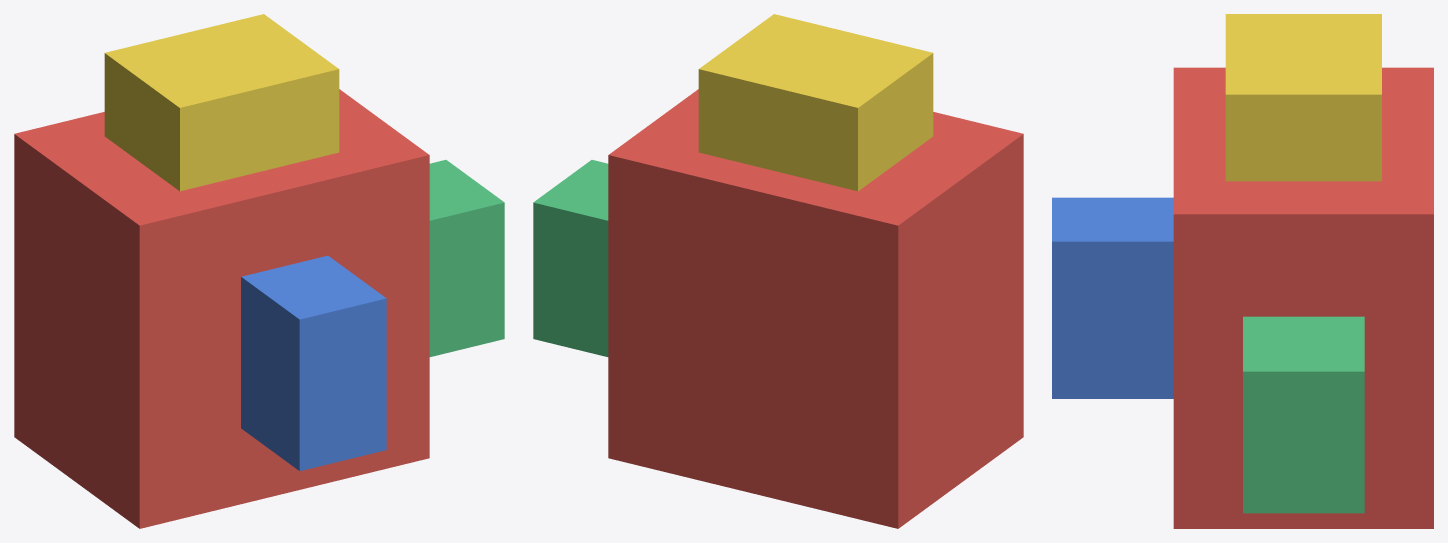
The model's file is probe_no_uv.glb.
3 views of the same model, side by side, from view 1: azimuth 30°, elevation 25°; view 2: azimuth 150°, elevation 25°; view 3: azimuth 270°, elevation 25° (orthographic). The views are drawn at different scales.
Visible parts, largest first — view 1: Probe_NoUV_Base, Probe_NoUV_Top, Probe_NoUV_PositiveZ, Probe_NoUV_PositiveX; view 2: Probe_NoUV_Base, Probe_NoUV_Top, Probe_NoUV_PositiveX; view 3: Probe_NoUV_Base, Probe_NoUV_Top, Probe_NoUV_PositiveZ, Probe_NoUV_PositiveX.
Boxes of the visible parts, x1,y1,x2,y2 form: Probe_NoUV_Base: (14, 89, 429, 528); Probe_NoUV_Top: (104, 14, 339, 191); Probe_NoUV_PositiveZ: (241, 255, 386, 470); Probe_NoUV_PositiveX: (429, 160, 504, 356); Probe_NoUV_Base: (608, 89, 1023, 528); Probe_NoUV_Top: (698, 14, 933, 191); Probe_NoUV_PositiveX: (533, 160, 608, 356); Probe_NoUV_Base: (1173, 67, 1433, 528); Probe_NoUV_Top: (1225, 14, 1381, 181); Probe_NoUV_PositiveZ: (1052, 197, 1173, 398); Probe_NoUV_PositiveX: (1243, 316, 1364, 513).
Size of the model in its own units: 1.1 by 1.02 by 0.88.
